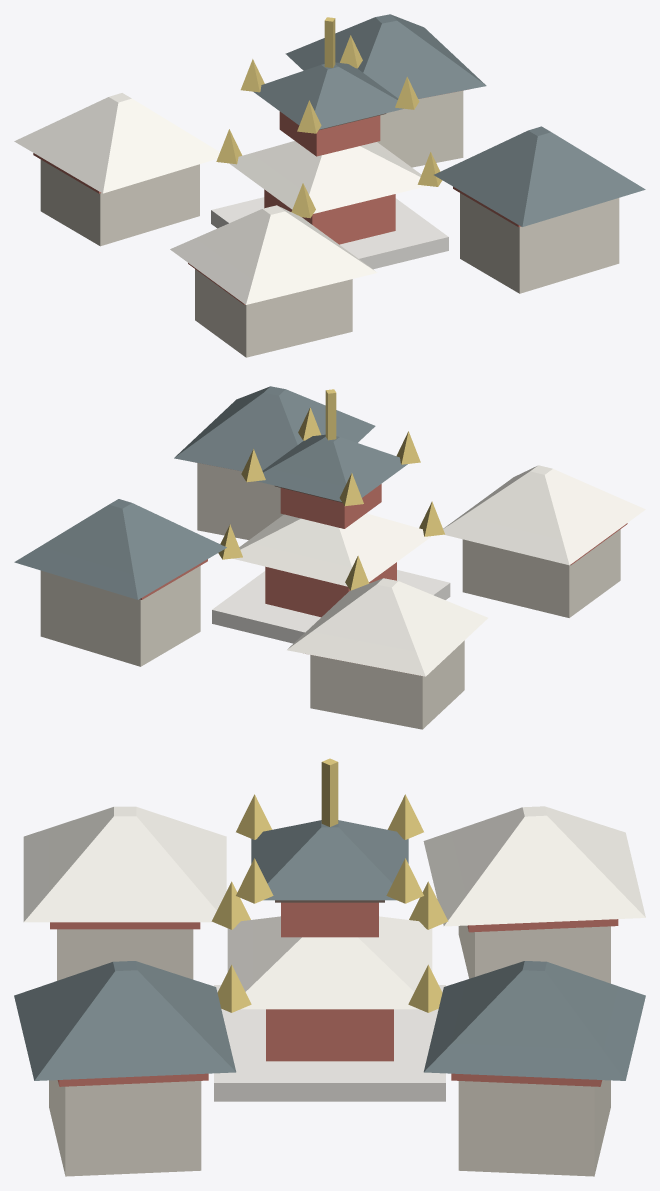
Rendered from town.glb.
The picture shows the model from 3 angles, top to bottom: view 1: azimuth 30°, elevation 25°; view 2: azimuth 150°, elevation 25°; view 3: azimuth 270°, elevation 25°; orthographic projection. The views are drawn at different scales.
Parts seen in each view (by area): view 1: east_asian_town; view 2: east_asian_town; view 3: east_asian_town.
Part boxes in pixels (bbox=[...]): east_asian_town: bbox=[14, 14, 645, 357]; east_asian_town: bbox=[14, 386, 645, 729]; east_asian_town: bbox=[14, 758, 645, 1176].
Size of the model in its own units: 0.9258 by 0.47 by 0.9258.
